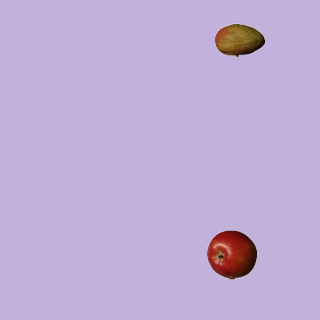Apple Braeburn: (206, 229, 256, 279)
Papaya: (214, 15, 264, 65)
